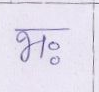anusvara: (49, 44, 59, 49)
